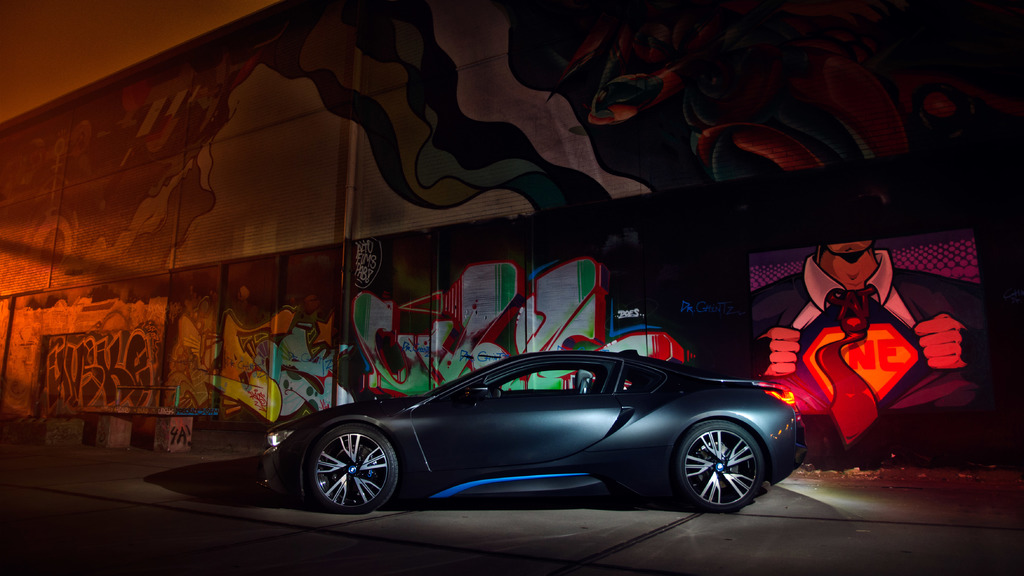mobil: (259, 339, 805, 526)
